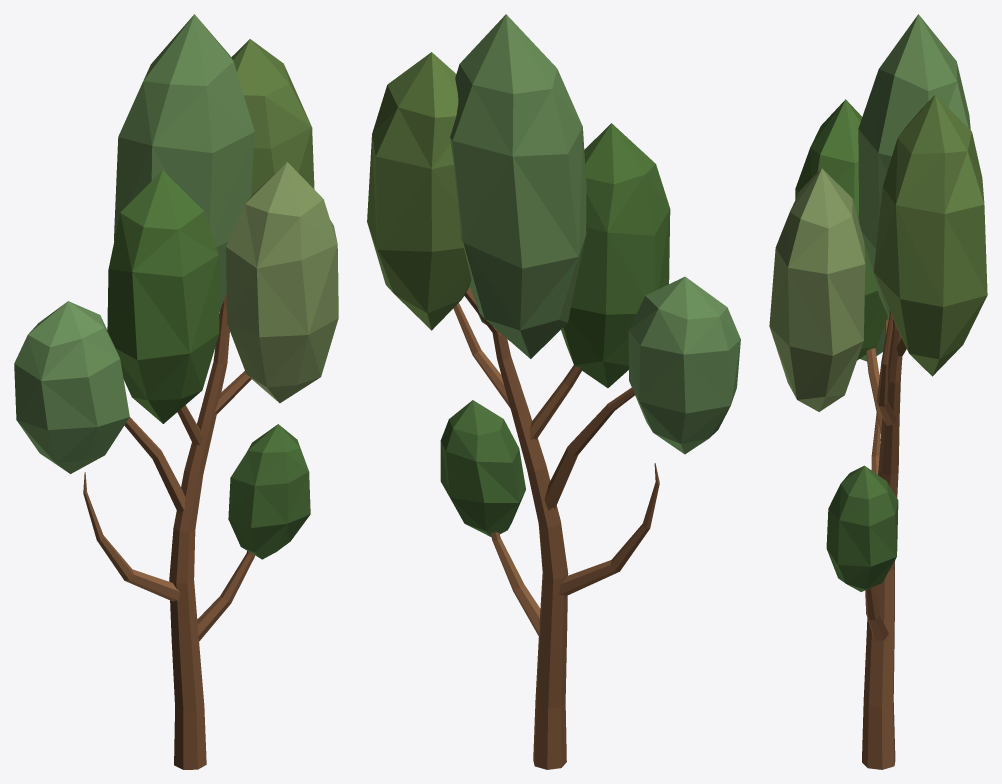
Rendered from big-tree.glb.
3 renders of one model, left to right at view 1: azimuth 30°, elevation 25°; view 2: azimuth 150°, elevation 25°; view 3: azimuth 270°, elevation 25°, orthographic. The views are drawn at different scales.
Visible parts, largest first — view 1: 05 | Front left crown, 06 | Front light crown, 03 | Tall rear crown, 07 | Outer left crown, 01 | Brown angular trunk, 08 | Low right crown, 04 | Upper right crown, 02 | Rising branches and bare fork; view 2: 03 | Tall rear crown, 04 | Upper right crown, 05 | Front left crown, 07 | Outer left crown, 01 | Brown angular trunk, 08 | Low right crown, 02 | Rising branches and bare fork; view 3: 04 | Upper right crown, 06 | Front light crown, 03 | Tall rear crown, 01 | Brown angular trunk, 08 | Low right crown, 05 | Front left crown, 02 | Rising branches and bare fork.
Boxes of the visible parts, x1=… form: 05 | Front left crown: x1=107, y1=170, x2=219, y2=423; 06 | Front light crown: x1=226, y1=162, x2=338, y2=403; 03 | Tall rear crown: x1=114, y1=14, x2=254, y2=311; 07 | Outer left crown: x1=14, y1=301, x2=129, y2=473; 01 | Brown angular trunk: x1=169, y1=293, x2=229, y2=769; 08 | Low right crown: x1=228, y1=424, x2=310, y2=559; 04 | Upper right crown: x1=231, y1=39, x2=314, y2=195; 02 | Rising branches and bare fork: x1=83, y1=371, x2=254, y2=641; 03 | Tall rear crown: x1=450, y1=14, x2=586, y2=358; 04 | Upper right crown: x1=367, y1=52, x2=471, y2=330; 05 | Front left crown: x1=561, y1=123, x2=670, y2=387; 07 | Outer left crown: x1=628, y1=276, x2=740, y2=454; 01 | Brown angular trunk: x1=492, y1=329, x2=568, y2=769; 08 | Low right crown: x1=440, y1=400, x2=525, y2=537; 02 | Rising branches and bare fork: x1=453, y1=288, x2=659, y2=636; 04 | Upper right crown: x1=873, y1=94, x2=987, y2=376; 06 | Front light crown: x1=769, y1=168, x2=865, y2=411; 03 | Tall rear crown: x1=858, y1=14, x2=970, y2=324; 01 | Brown angular trunk: x1=862, y1=319, x2=902, y2=769; 08 | Low right crown: x1=826, y1=465, x2=898, y2=591; 05 | Front left crown: x1=795, y1=99, x2=887, y2=360; 02 | Rising branches and bare fork: x1=865, y1=311, x2=906, y2=640.
Size of the model in its own units: 2.75 by 6 by 1.56.
